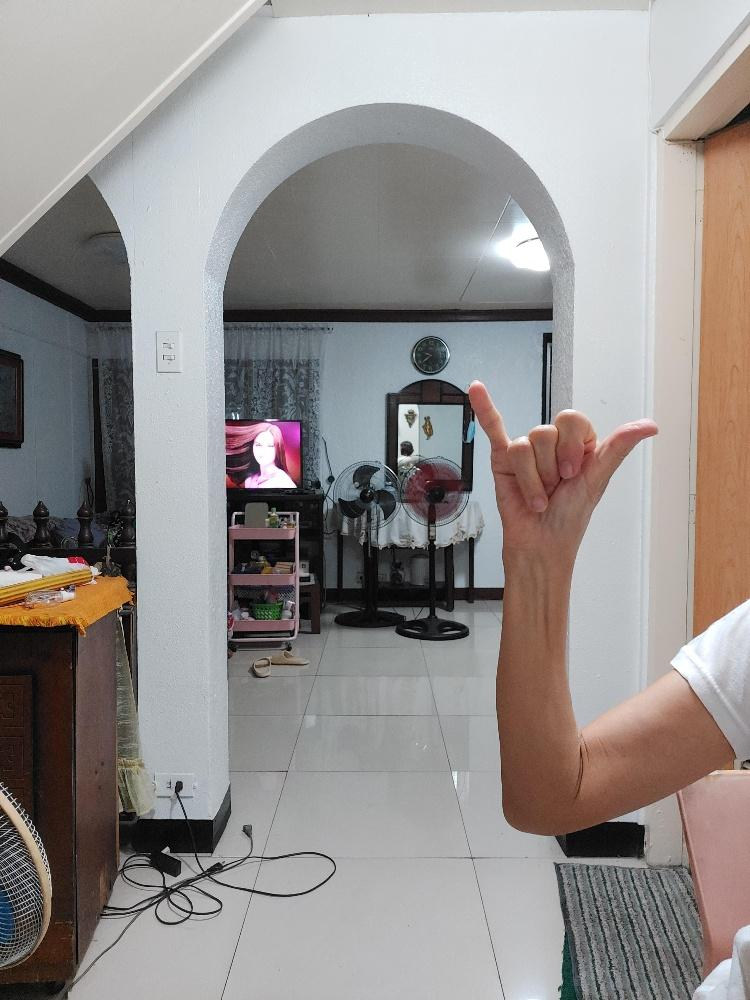y: (467, 379, 658, 556)
